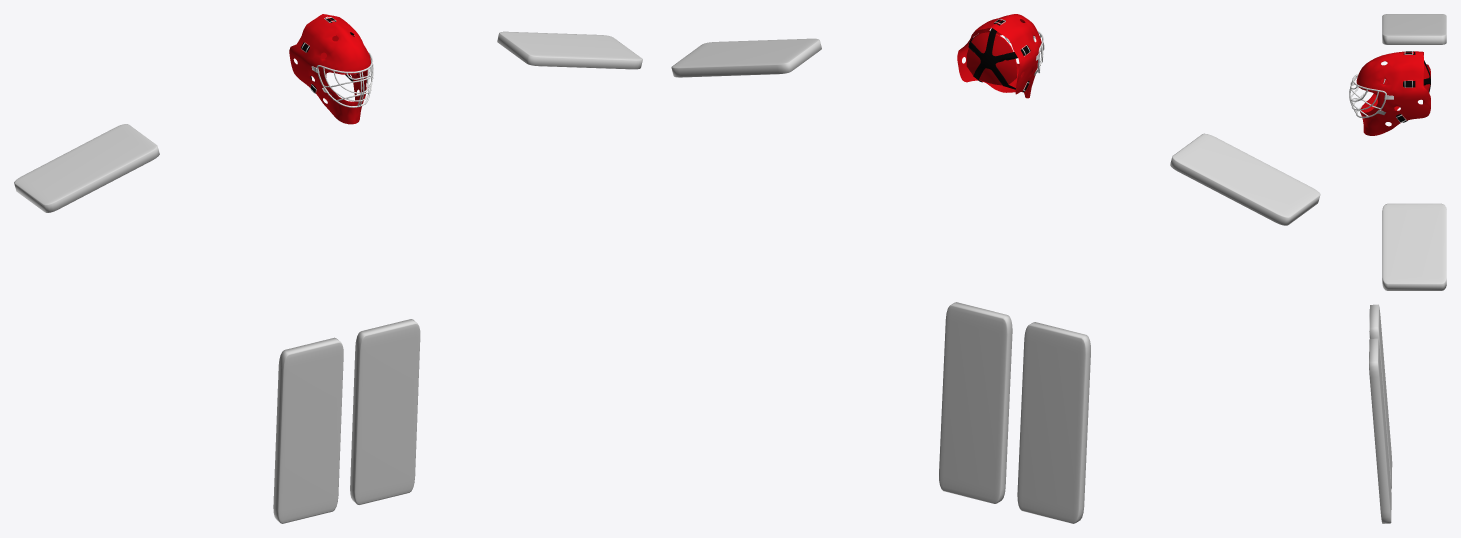
The model's file is hockeyOutfit.fbx.
3 views of the same model, side by side, from view 1: azimuth 30°, elevation 25°; view 2: azimuth 150°, elevation 25°; view 3: azimuth 270°, elevation 25° (orthographic). The views are drawn at different scales.
Visible parts, largest first — view 1: legpad.R, legpad.L, handpad.R, GoalieMask, handpad.L; view 2: legpad.R, legpad.L, handpad.R, GoalieMask, handpad.L; view 3: handpad.L, GoalieMask, legpad.L, handpad.R, legpad.R.
Part boxes in pixels (left/top/right/bottom): legpad.R: left=273, top=337, right=343, bottom=523; legpad.L: left=350, top=319, right=420, bottom=504; handpad.R: left=14, top=124, right=159, bottom=212; GoalieMask: left=289, top=14, right=373, bottom=124; handpad.L: left=497, top=31, right=642, bottom=69; legpad.R: left=1017, top=322, right=1090, bottom=523; legpad.L: left=939, top=302, right=1012, bottom=503; handpad.R: left=1170, top=133, right=1320, bottom=225; GoalieMask: left=957, top=14, right=1044, bottom=98; handpad.L: left=671, top=38, right=821, bottom=77; handpad.L: left=1382, top=203, right=1446, bottom=290; GoalieMask: left=1349, top=51, right=1430, bottom=135; legpad.L: left=1369, top=338, right=1391, bottom=523; handpad.R: left=1382, top=14, right=1446, bottom=44; legpad.R: left=1369, top=304, right=1392, bottom=488.
Bounding box in the file's own units: 219 × 168 × 33.44.
